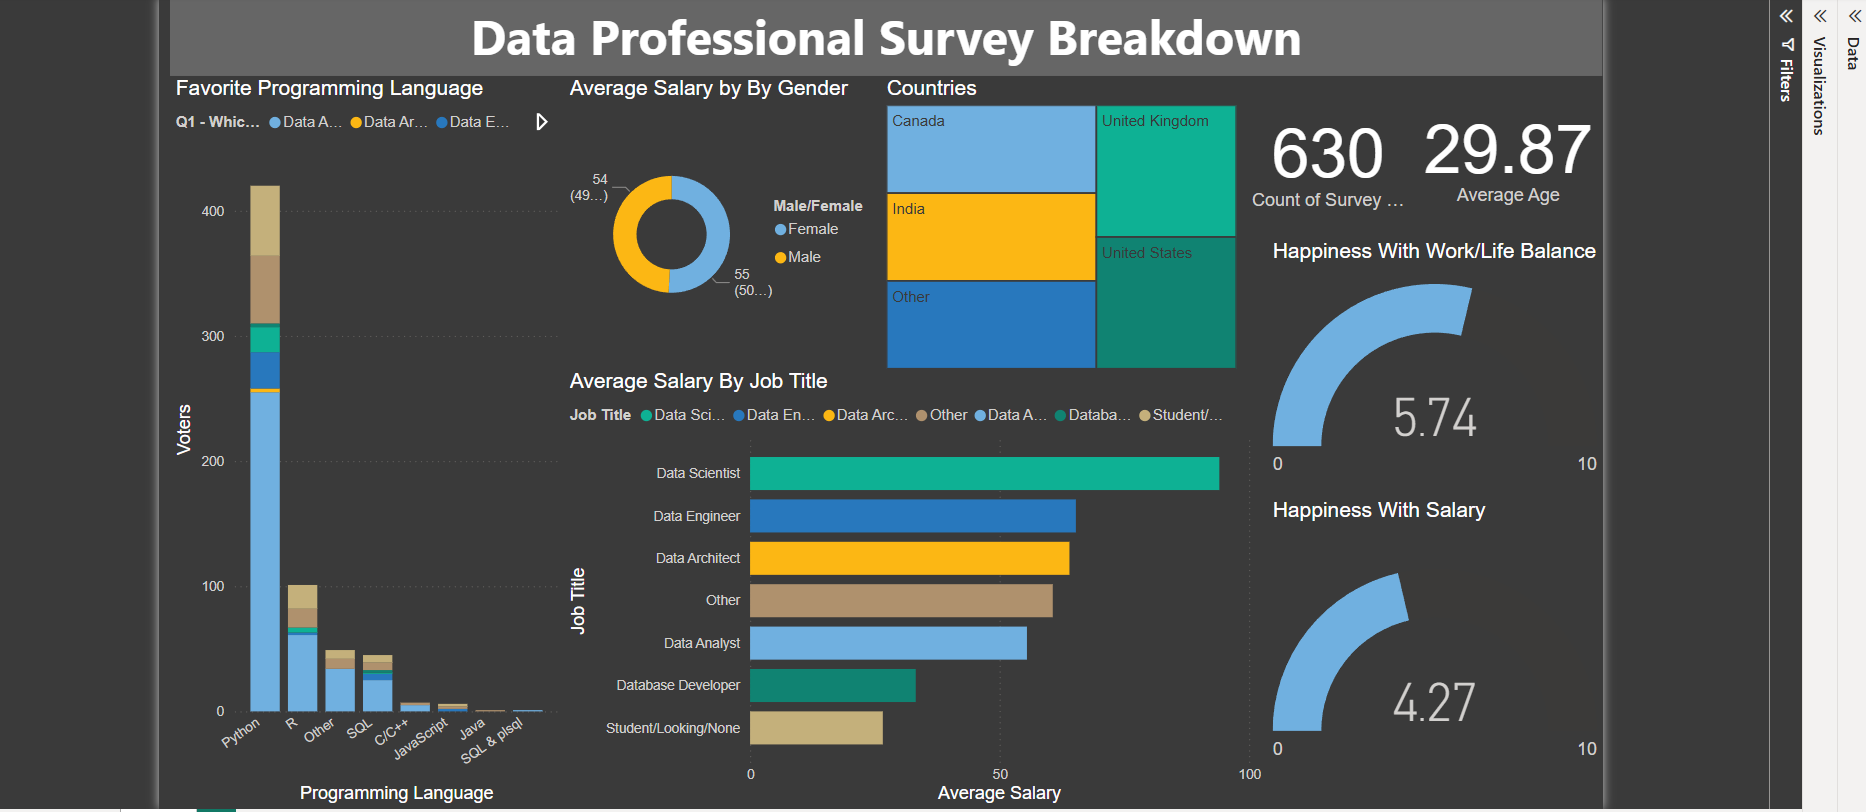

What the dashboard file says about the page in this screenshot:
{"tool":"powerbi","page":{"name":"Page 1","canvas":[1280,720],"ordinal":0},"visuals":[{"type":"textbox","box":[9.7,0,1270.3,70],"z":0},{"type":"card","fields":{"Values":["Count(Data Professional Survey.Unique ID)"]},"box":[960,70,152.7,144.9],"z":1000},{"type":"card","fields":{"Values":["Avg(Data Professional Survey.Q10 - Current Age)"]},"box":[1112.7,70,167.3,137.1],"z":2000},{"type":"barChart","title":"Average Salary By Job Title","fields":{"Category":["Data Professional Survey.Q1 - Which Title Best Fits your Current Role?.1"],"Y":["Avg(Data Professional Survey.Average Salary)"],"Series":["Data Professional Survey.Q1 - Which Title Best Fits your Current Role?.1"]},"box":[358.9,329.7,623.5,390],"z":3000},{"type":"columnChart","title":"Favorite Programming Language","fields":{"Category":["Data Professional Survey.Q5 - Favorite Programming Language.1"],"Y":["CountNonNull(Data Professional Survey.Unique ID)"],"Series":["Data Professional Survey.Q1 - Which Title Best Fits your Current Role?.1"]},"box":[9.7,70,349.2,649.7],"z":4000},{"type":"treemap","title":"Countries","fields":{"Group":["Data Professional Survey.Q11 - Which Country do you live in?.1"],"Values":["Count(Data Professional Survey.Q11 - Which Country do you live in?.1)"]},"box":[640,70,320,264.6],"z":5000},{"type":"gauge","title":"Happiness With Work/Life Balance","fields":{"Y":["Avg(Data Professional Survey.Q6 - How Happy are you in your Current Position with the following? (Work/Life Balance))"],"MinValue":["Min(Data Professional Survey.Q6 - How Happy are you in your Current Position with the following? (Work/Life Balance))1"],"MaxValue":["Max(Data Professional Survey.Q6 - How Happy are you in your Current Position with the following? (Work/Life Balance))2"]},"box":[982.4,215,297.6,229.5],"z":6000},{"type":"gauge","title":"Happiness With Salary","fields":{"Y":["Avg(Data Professional Survey.Q6 - How Happy are you in your Current Position with the following? (Salary))"],"MinValue":["Min(Data Professional Survey.Q6 - How Happy are you in your Current Position with the following? (Salary))"],"MaxValue":["Max(Data Professional Survey.Q6 - How Happy are you in your Current Position with the following? (Salary))"]},"box":[982.4,444.5,297.6,275.3],"z":7000},{"type":"donutChart","title":"Average Salary by By Gender","fields":{"Category":["Data Professional Survey.Q9 - Male/Female?"],"Y":["Avg(Data Professional Survey.Average Salary)"]},"box":[358.7,69.9,285.8,259.8],"z":8000}]}

Visuals, with their boxes in screenshot pixels (x1, y1, x2, y2):
textbox: [279,0,1797,25]
card - Count(Data Professional Survey.Unique ID): [1414,25,1597,198]
card - Avg(Data Professional Survey.Q10 - Current Age): [1597,25,1797,189]
"Average Salary By Job Title" barChart: [696,336,1441,802]
"Favorite Programming Language" columnChart: [279,25,696,802]
"Countries" treemap: [1032,25,1414,341]
"Happiness With Work/Life Balance" gauge: [1441,199,1797,473]
"Happiness With Salary" gauge: [1441,473,1797,802]
"Average Salary by By Gender" donutChart: [696,25,1037,336]
